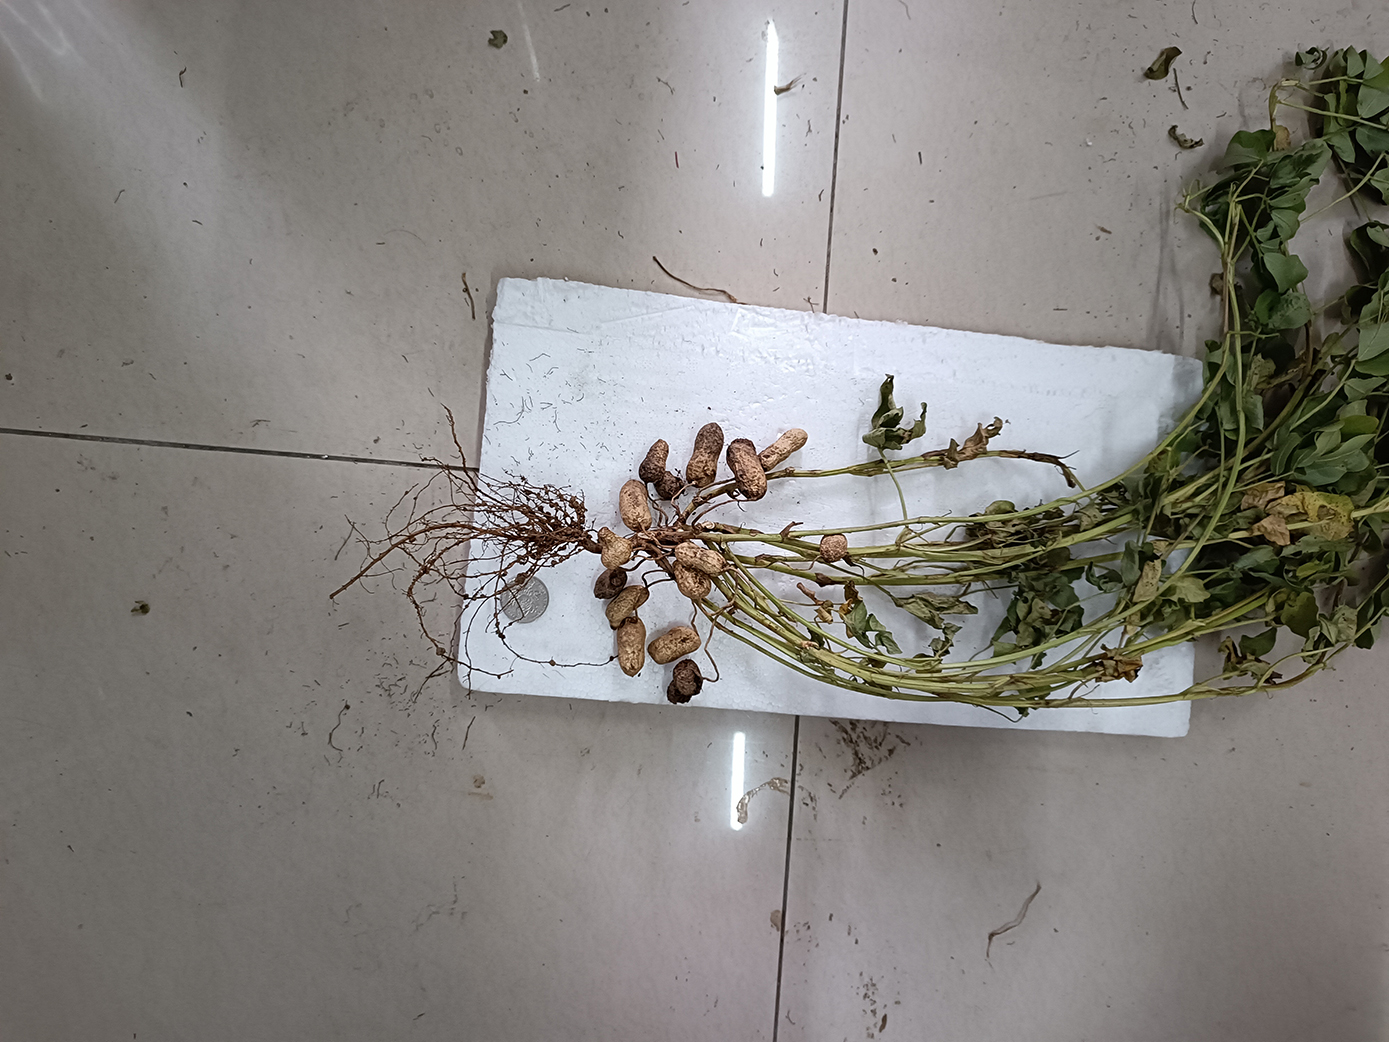h: (648, 626, 702, 667), (605, 584, 651, 629), (762, 427, 807, 470), (616, 617, 648, 678), (618, 478, 652, 530), (597, 526, 636, 570), (676, 540, 725, 574), (675, 560, 713, 599), (819, 534, 848, 563)
l: (727, 438, 769, 499), (685, 422, 724, 488), (667, 660, 703, 706), (592, 567, 629, 601), (637, 440, 668, 481), (653, 470, 682, 498)
